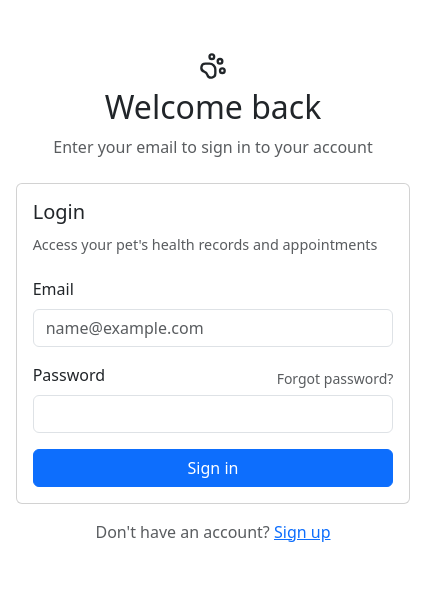
Test: LoginPage › shows error on failed login
The image size is (427, 596).
Type "fail@example.com" into the field labelled "Email" at {"x": 213, "y": 328}, box [33,309,393,347]
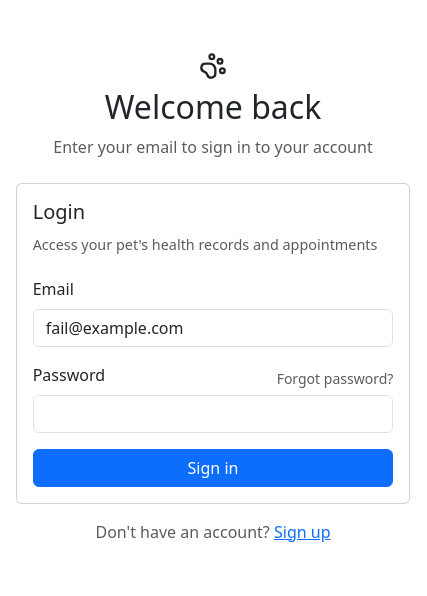
Type "wrong" into the password field labelled "Password" at {"x": 213, "y": 414}, box [33,395,393,433]
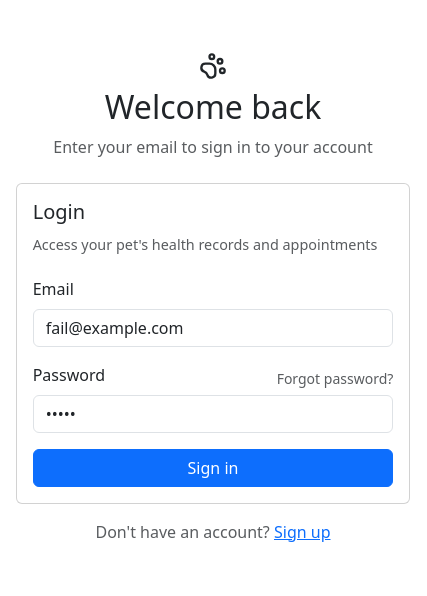
Click the button "Sign in" at {"x": 213, "y": 468}, box [33,449,393,487]
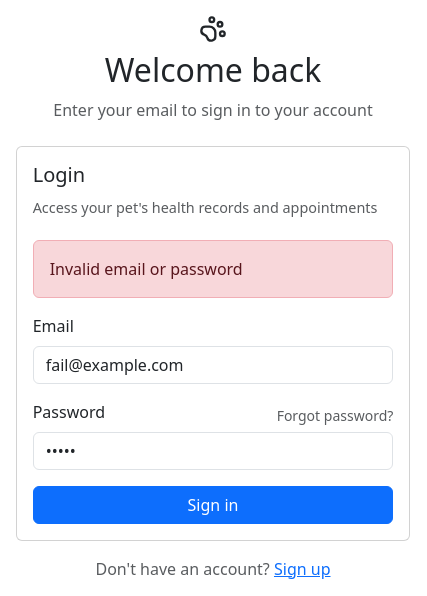
Expected: the text "Invalid email or password" is shown, [33,240,393,298]
